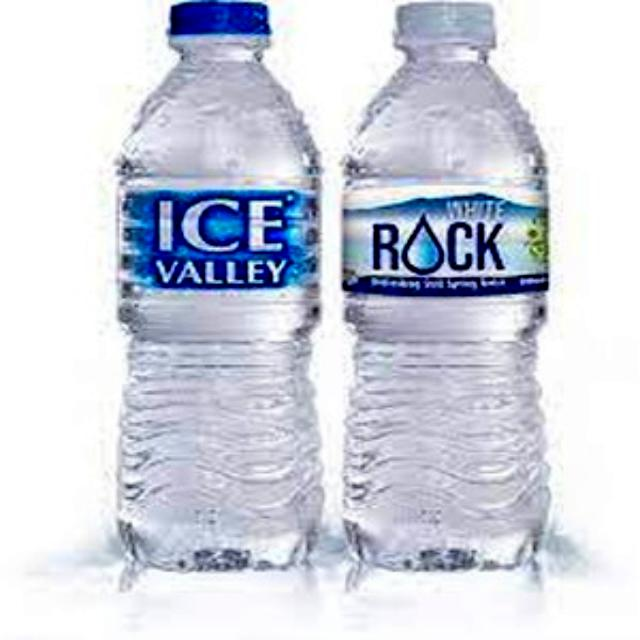Plastic: (334, 0, 550, 572), (114, 0, 327, 568)
